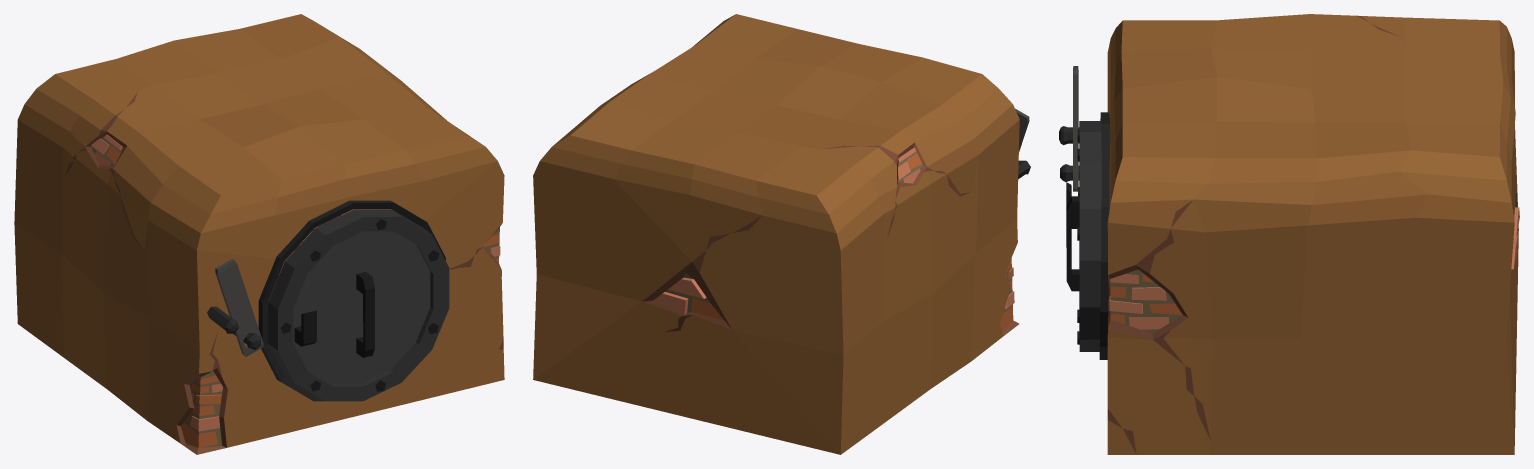
The model's file is coalmaker_3.fbx.
3 views of the same model, side by side, from view 1: azimuth 30°, elevation 25°; view 2: azimuth 150°, elevation 25°; view 3: azimuth 270°, elevation 25° (orthographic). The views are drawn at different scales.
Visible parts, largest first — view 1: coulstove, hatch, bolt; view 2: coulstove; view 3: coulstove, hatch, bolt.
Part boxes in pixels (<box>): coulstove: <box>14,14,504,454</box>; hatch: <box>268,209,449,401</box>; bolt: <box>215,258,263,356</box>; coulstove: <box>533,14,1030,454</box>; coulstove: <box>1059,14,1519,454</box>; hatch: <box>1066,121,1101,351</box>; bolt: <box>1073,66,1078,191</box>.
Size of the model in its own units: 1.33 by 1.04 by 1.49.
